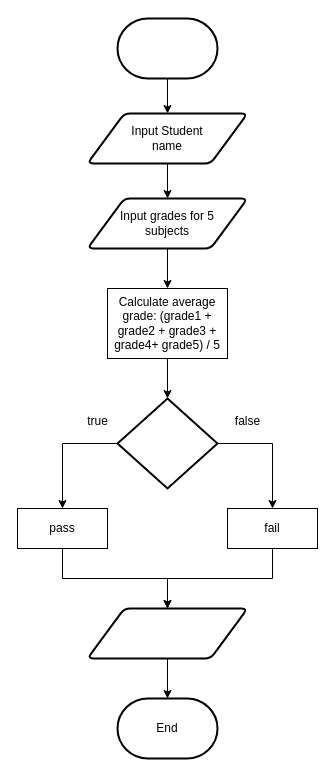
This 335x776 diagram has some shape labels left out. The shapes that lost their labels are listed below. From the top down, each one's centre as x and y in pixels, then its label:
At (167,48): "Start".
At (167,443): "if (total >= 75)".
At (167,633): "Display Result (Name & Average)".
